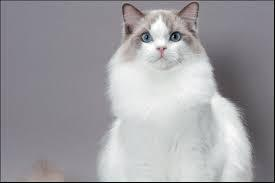ragdoll: (122, 1, 200, 89)
